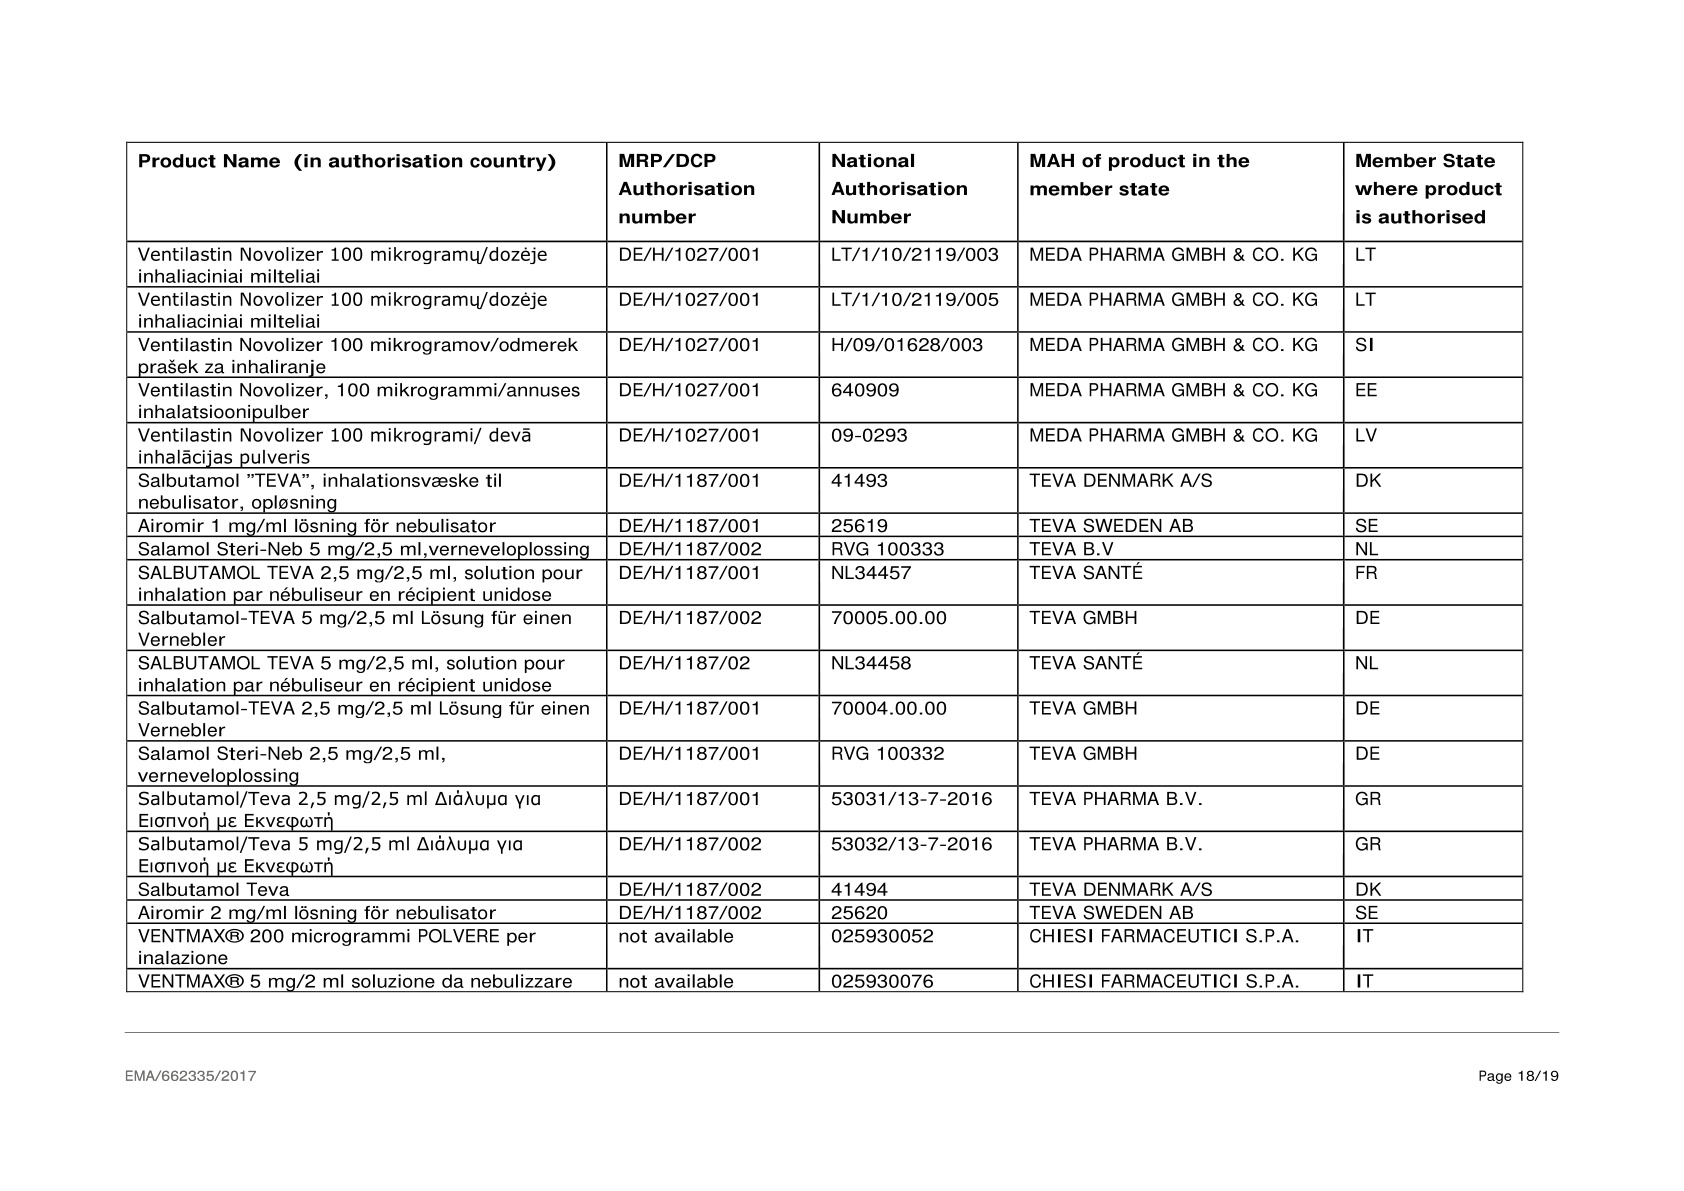full_lined: (126, 140, 1524, 992)
